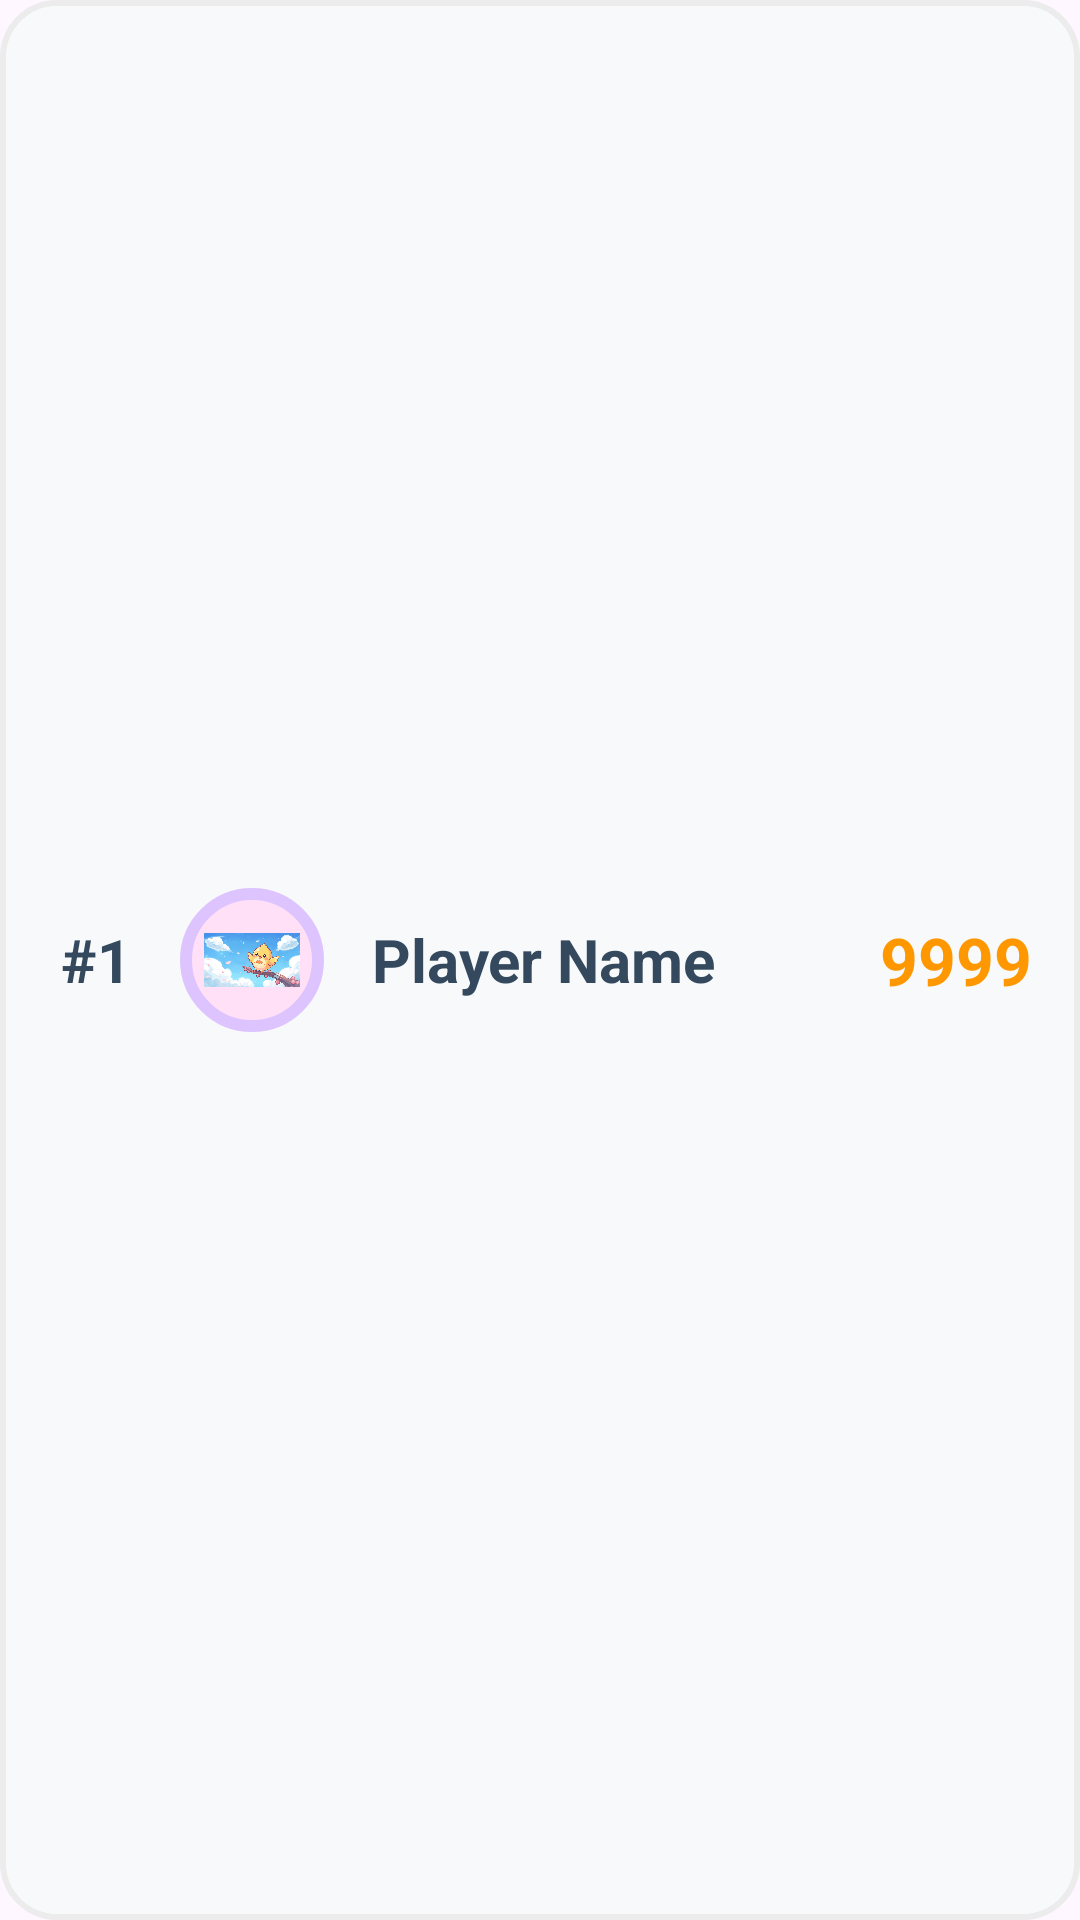

Named icons in this screenshot (1080×1920) and their bounding boxes, (x1, y1, x2, y2):
Player Avatar: (180, 888, 324, 1032)
